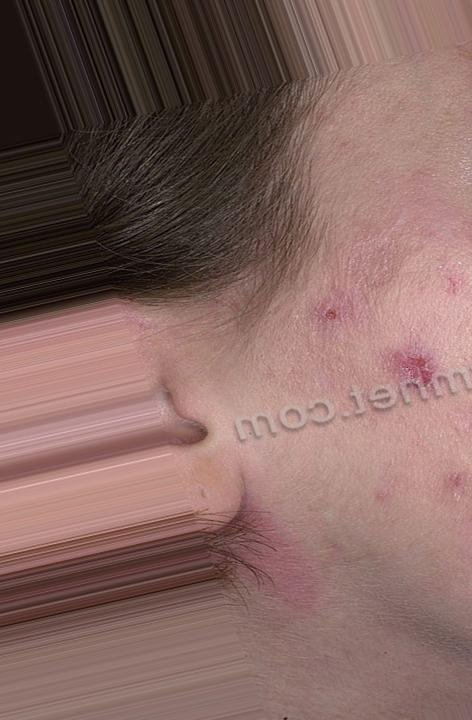Acne: (377, 325, 459, 406), (297, 289, 364, 338)
